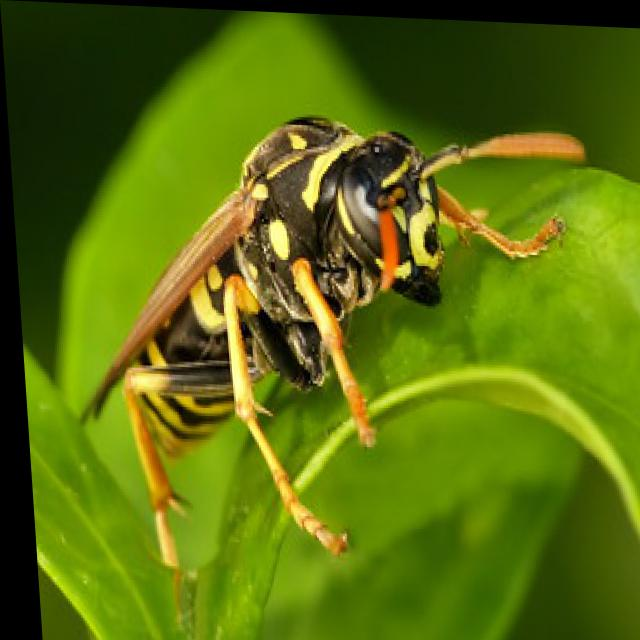Guepe: (39, 43, 603, 595)
